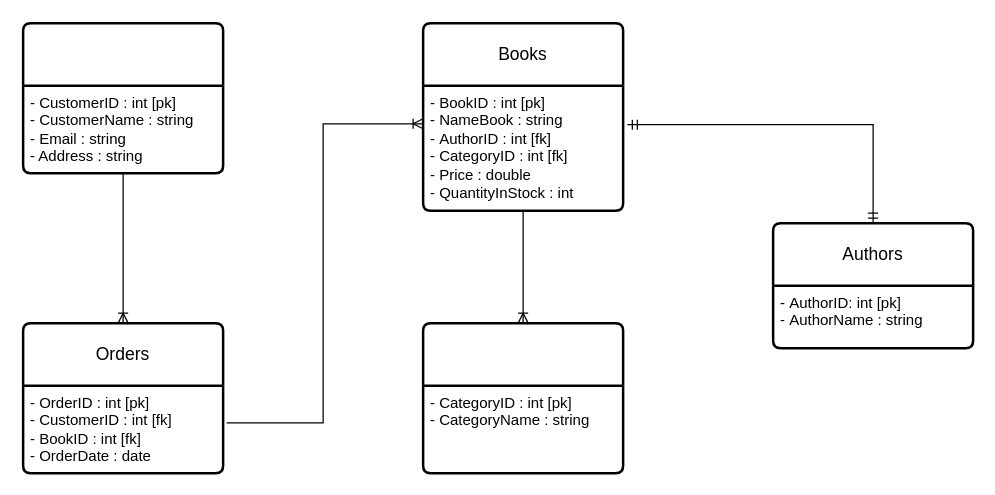
This 995x495 diagram has some shape labels left out. The shapes that lost their labels are listed below. From the top down, each one's box as (x1, y1, x2, y2) in pixels, then its label:
(21, 21, 224, 174): Customers
(421, 321, 624, 474): Categories
